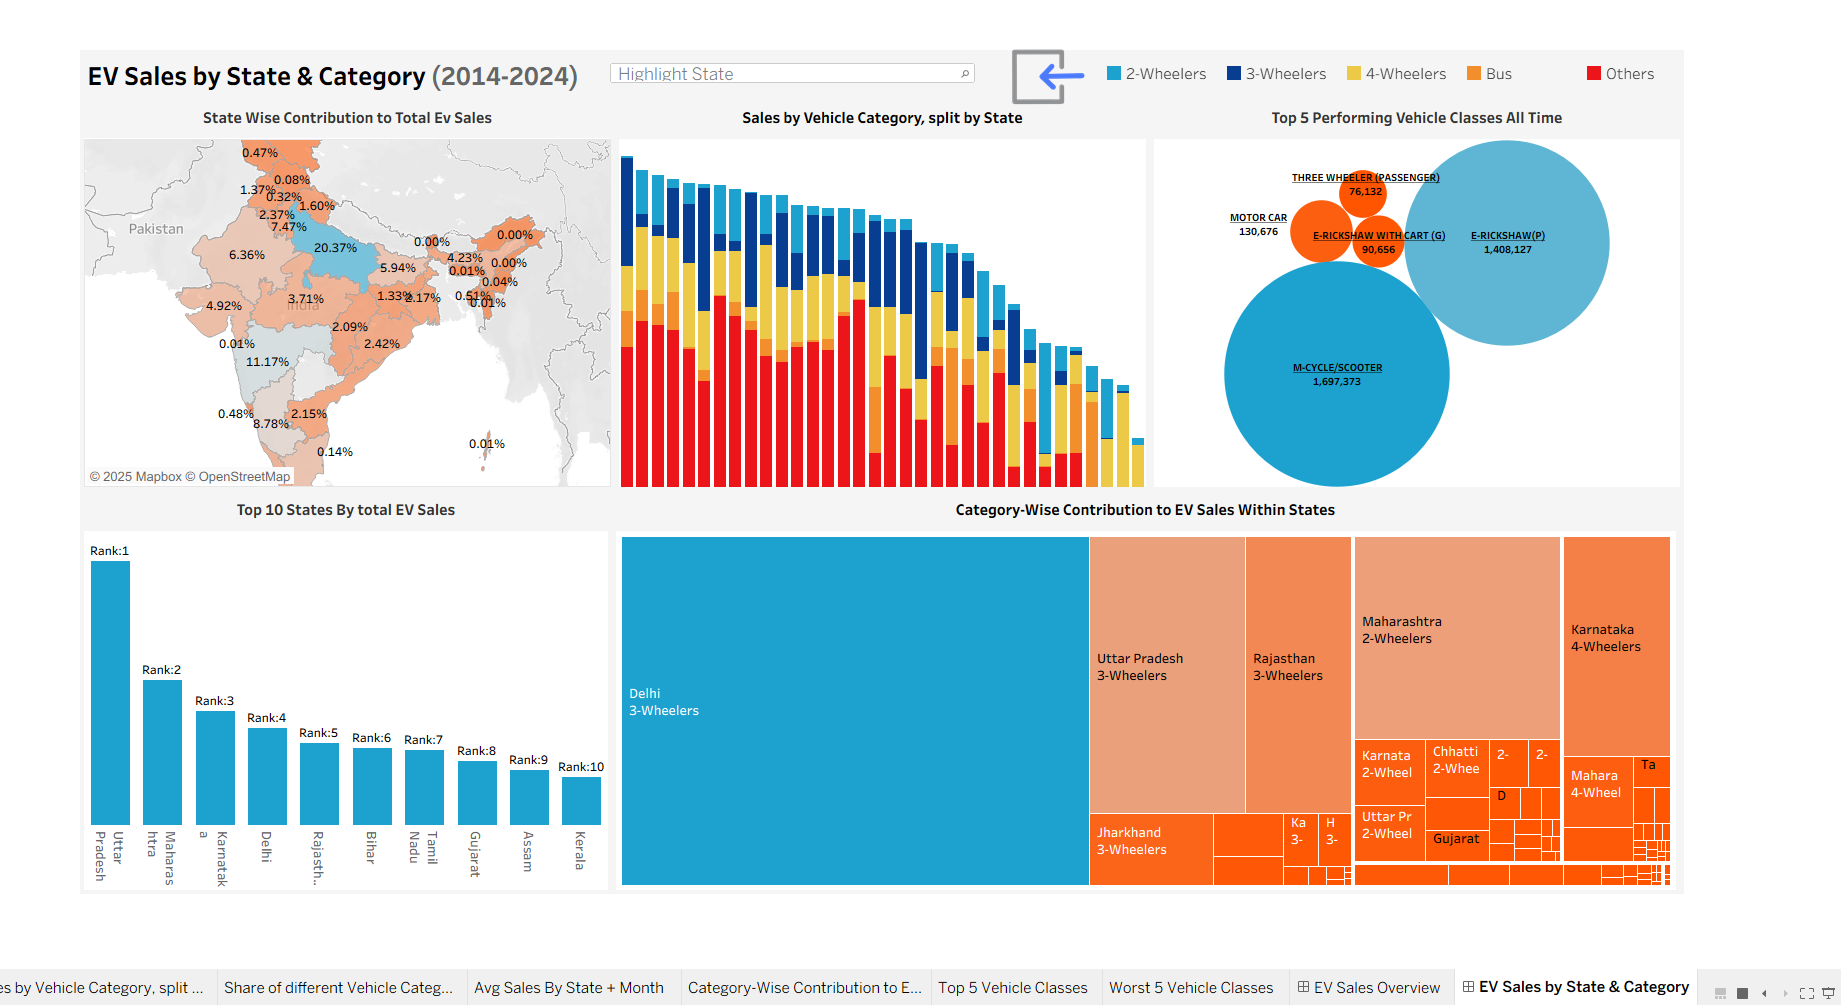

Layout of this report page (visuals, bound fields, positions):
{"tool":"tableau","page":{"name":"EV Sales by State & Category","canvas":[1000,1000],"units":"permille","ordinal":1},"visuals":[{"type":"text","box":[4.9,9.3,501.1,57]},{"type":"highlighter","title":"State Wise Contribution to Total Ev Sales","param":"[federated.0oydym21wm6u7q1f02l7u1y5yx9q].[none:State:nk]","box":[330.2,20.9,229,37.2]},{"type":"worksheet","title":"State Wise Contribution to Total Ev Sales","mark":"Automatic","box":[4.9,66.3,330.2,455.8]},{"type":"worksheet","title":"Sales by Vehicle Category, split by State","mark":"Bar","rows":["EV_Sales_Quantity"],"cols":["State"],"box":[335.2,66.3,330.2,455.8]},{"type":"worksheet","title":"Top 5 Vehicle Classes","mark":"Circle","box":[665.4,66.3,329.6,455.8]},{"type":"worksheet","title":"Top 10 States By total EV Sales","mark":"Automatic","rows":["EV_Sales_Quantity"],"cols":["State"],"box":[4.9,522.1,328.3,468.6]},{"type":"worksheet","title":"Category-Wise Contribution to EV Sales Within States","mark":"Automatic","box":[333.2,522.1,661.8,468.6]}]}

Visuals, with their boxes on the dashboard's canvas, which has no fixed pixel size, in thousandths of its width and height (x1, y1, x2, y2). These are canvas units, not pixel positions in the 1841x1005 screenshot, which may show the page scaled, cropped or inside an application window:
text: x1=5 y1=9 x2=506 y2=66
"State Wise Contribution to Total Ev Sales" highlighter: x1=330 y1=21 x2=559 y2=58
"State Wise Contribution to Total Ev Sales" worksheet: x1=5 y1=66 x2=335 y2=522
"Sales by Vehicle Category, split by State" worksheet (Bar marks): x1=335 y1=66 x2=665 y2=522
"Top 5 Vehicle Classes" worksheet (Circle marks): x1=665 y1=66 x2=995 y2=522
"Top 10 States By total EV Sales" worksheet: x1=5 y1=522 x2=333 y2=991
"Category-Wise Contribution to EV Sales Within States" worksheet: x1=333 y1=522 x2=995 y2=991
